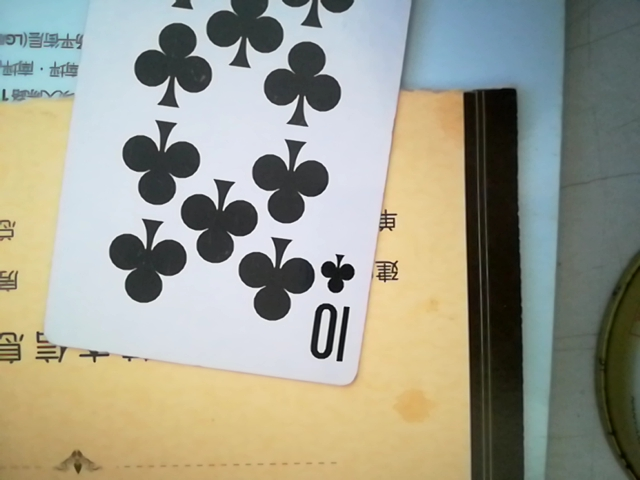mh 10: (35, 0, 424, 390)
